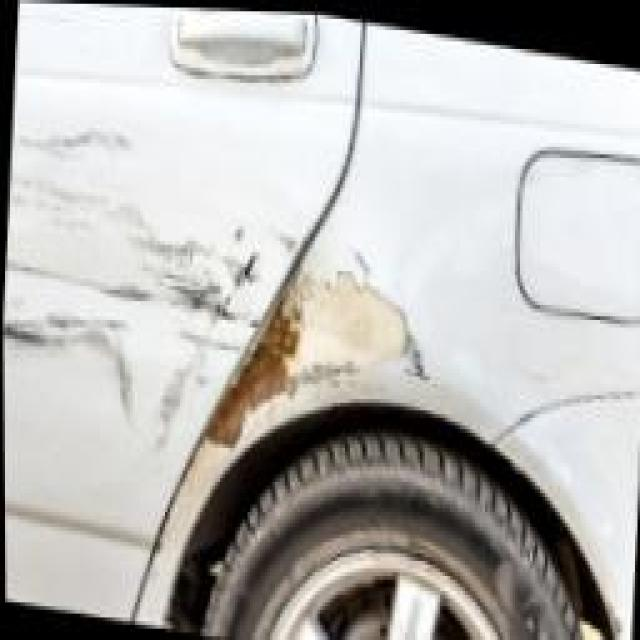Door: (0, 41, 290, 420)
Fender: (215, 177, 442, 486)
